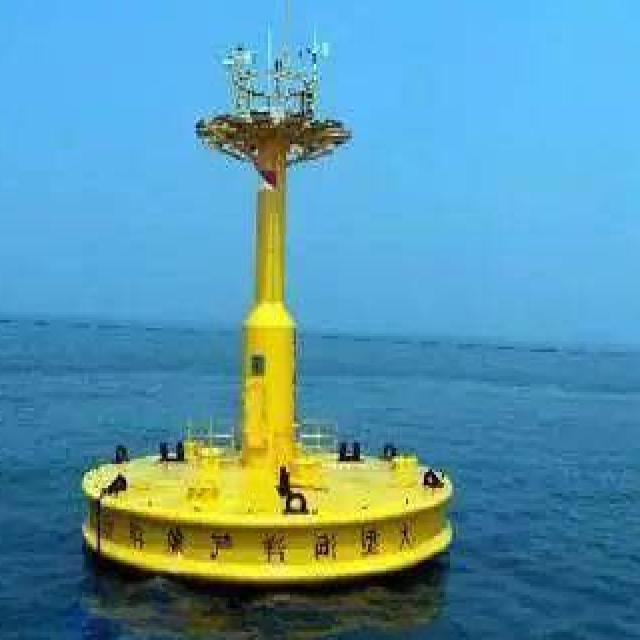buoy: (79, 18, 456, 594)
